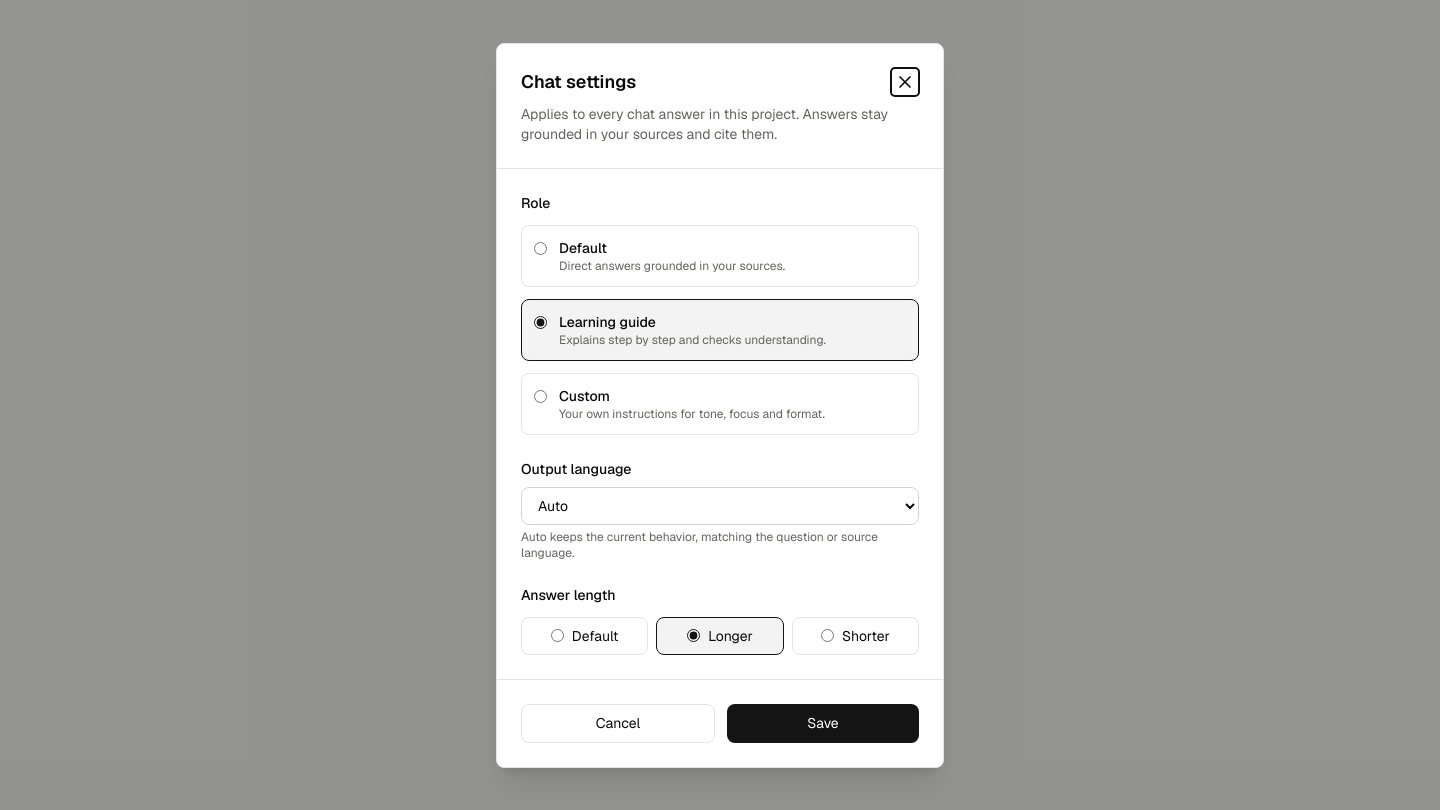
Test case: chat settings dialog › keeps the dialog open and says so when saving fails
expect the radio button labelled "Learning guide" is shown: met, box [534,316,547,328]
Click the button "Save": (823, 723) [727,704,919,742]
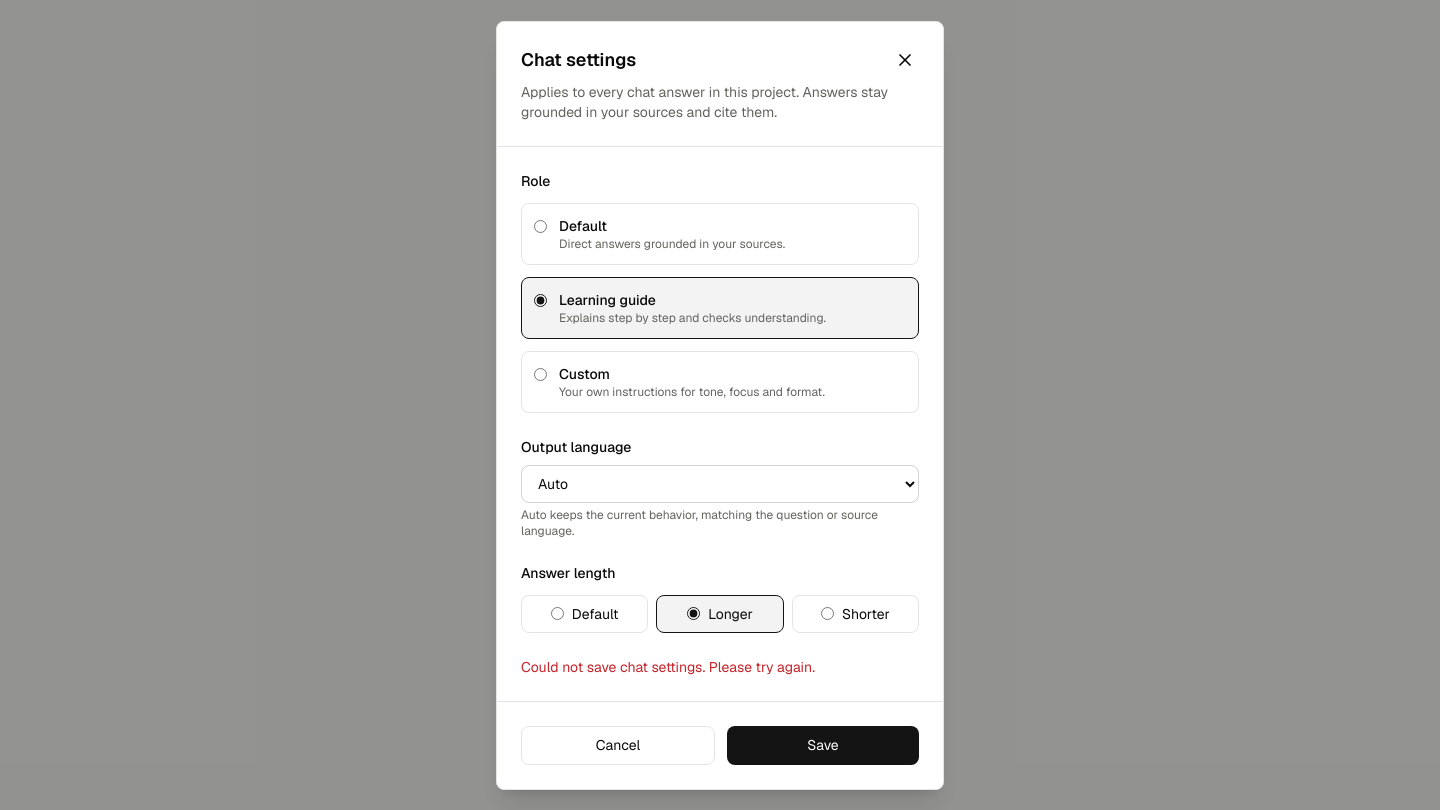
expect the message "Could not save chat settings. Please try again." is shown: met, box [521,658,815,676]
